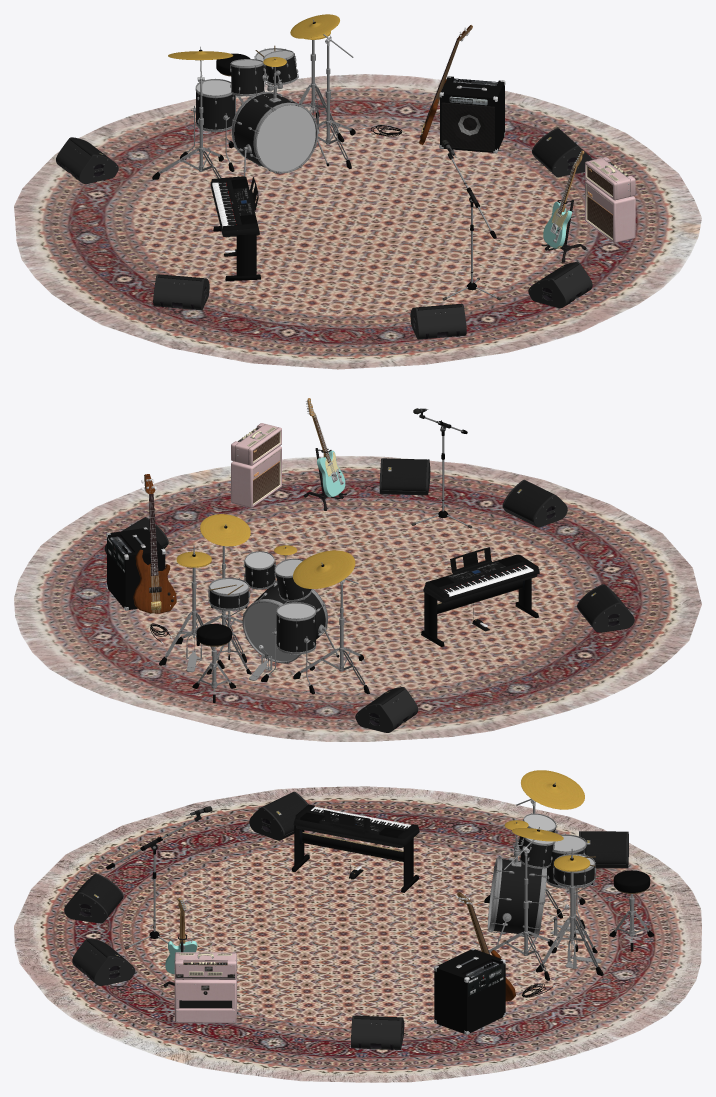
File: stage.glb
3 views of the same model, one above another, from view 1: azimuth 30°, elevation 25°; view 2: azimuth 150°, elevation 25°; view 3: azimuth 270°, elevation 25° (orthographic). The views are drawn at different scales.
Parts seen in each view (by area): view 1: Object_2, Amp.HartkeHD75_0, Lid.004_40, Vox_Amp, monitor_speaker_lp_lambert2_0.002, monitor_speaker_lp_lambert2_0.003, monitor_speaker_lp_lambert2_0.001, monitor_speaker_lp, monitor_speaker_lp_lambert2_0.004, Bass_38, Guitar_Telecaster, Tom_Floor_5 (+7 smaller); view 2: Object_2, Vox_Amp, Amp.HartkeHD75_0, Bass.Aria_3, Lid.004_40, monitor_speaker_lp, monitor_speaker_lp_lambert2_0.003, monitor_speaker_lp_lambert2_0.002, monitor_speaker_lp_lambert2_0.001, Cymbal_Ride_8, Cymbal_Crash_14, Tom_Floor_5 (+14 smaller); view 3: Object_2, Amp.HartkeHD75_0, Vox_Amp, Bass_38, monitor_speaker_lp_lambert2_0.002, monitor_speaker_lp, Cymbal_Ride_8, monitor_speaker_lp_lambert2_0.004, monitor_speaker_lp_lambert2_0.001, monitor_speaker_lp_lambert2_0.003, Stand_Middle_low, Lid.004_40 (+10 smaller).
Boxes of the visible parts, bbox=[...] form: Object_2: bbox=[14, 74, 701, 369]; Amp.HartkeHD75_0: bbox=[439, 76, 505, 153]; Lid.004_40: bbox=[231, 91, 317, 173]; Vox_Amp: bbox=[585, 157, 635, 243]; monitor_speaker_lp_lambert2_0.002: bbox=[528, 262, 592, 308]; monitor_speaker_lp_lambert2_0.003: bbox=[56, 137, 118, 183]; monitor_speaker_lp_lambert2_0.001: bbox=[153, 274, 209, 310]; monitor_speaker_lp: bbox=[410, 303, 466, 339]; monitor_speaker_lp_lambert2_0.004: bbox=[532, 128, 592, 177]; Bass_38: bbox=[234, 93, 294, 167]; Guitar_Telecaster: bbox=[543, 150, 584, 248]; Tom_Floor_5: bbox=[196, 92, 235, 129]; Object_2: bbox=[14, 456, 701, 741]; Vox_Amp: bbox=[231, 423, 281, 507]; Amp.HartkeHD75_0: bbox=[106, 527, 165, 610]; Bass.Aria_3: bbox=[133, 474, 176, 613]; Lid.004_40: bbox=[242, 580, 327, 663]; monitor_speaker_lp: bbox=[502, 479, 567, 527]; monitor_speaker_lp_lambert2_0.003: bbox=[355, 687, 418, 732]; monitor_speaker_lp_lambert2_0.002: bbox=[379, 458, 430, 495]; monitor_speaker_lp_lambert2_0.001: bbox=[577, 584, 634, 632]; Cymbal_Ride_8: bbox=[293, 550, 355, 588]; Cymbal_Crash_14: bbox=[200, 514, 250, 546]; Tom_Floor_5: bbox=[276, 614, 315, 652]; Object_2: bbox=[14, 786, 701, 1082]; Amp.HartkeHD75_0: bbox=[434, 948, 505, 1034]; Vox_Amp: bbox=[174, 952, 236, 1023]; Bass_38: bbox=[493, 859, 541, 935]; monitor_speaker_lp_lambert2_0.002: bbox=[72, 938, 135, 985]; monitor_speaker_lp: bbox=[64, 873, 123, 923]; Cymbal_Ride_8: bbox=[521, 770, 584, 809]; monitor_speaker_lp_lambert2_0.004: bbox=[351, 1015, 404, 1049]; monitor_speaker_lp_lambert2_0.001: bbox=[249, 791, 308, 840]; monitor_speaker_lp_lambert2_0.003: bbox=[579, 831, 628, 868]; Stand_Middle_low: bbox=[302, 832, 403, 861]; Lid.004_40: bbox=[487, 858, 546, 936].
Bounding box in the file's own units: 9.04 × 1.95 × 8.86.
Materials: 24 (19 with a texture image).
